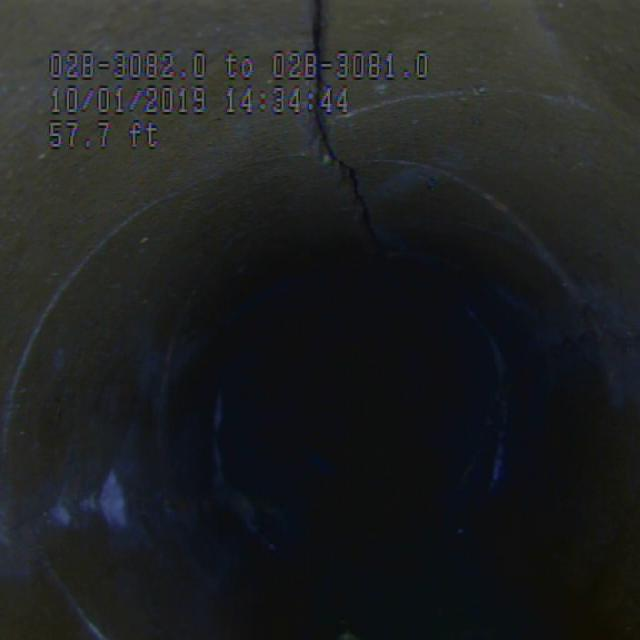Crack: (358, 54, 578, 134)
